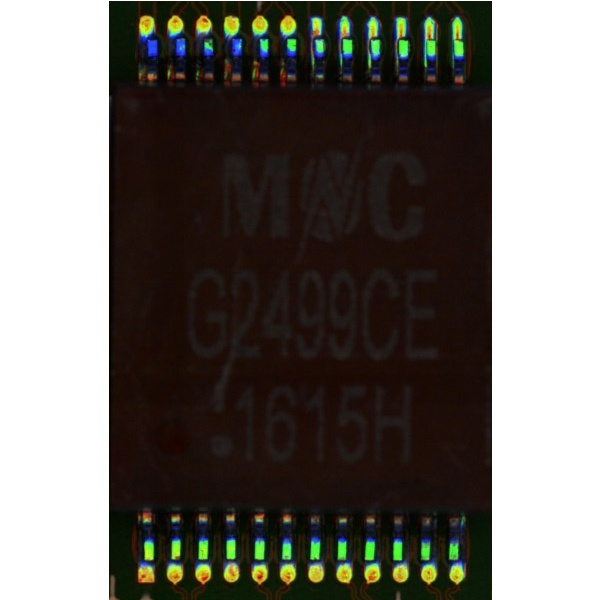Bad_podu: (427, 23, 434, 47), (371, 22, 378, 46), (454, 25, 461, 48), (399, 23, 406, 45), (315, 25, 321, 45), (342, 26, 349, 43)
Bad_qiaojiao: (367, 40, 373, 74), (310, 39, 316, 72), (338, 38, 343, 72), (394, 40, 399, 73), (423, 40, 427, 72)
